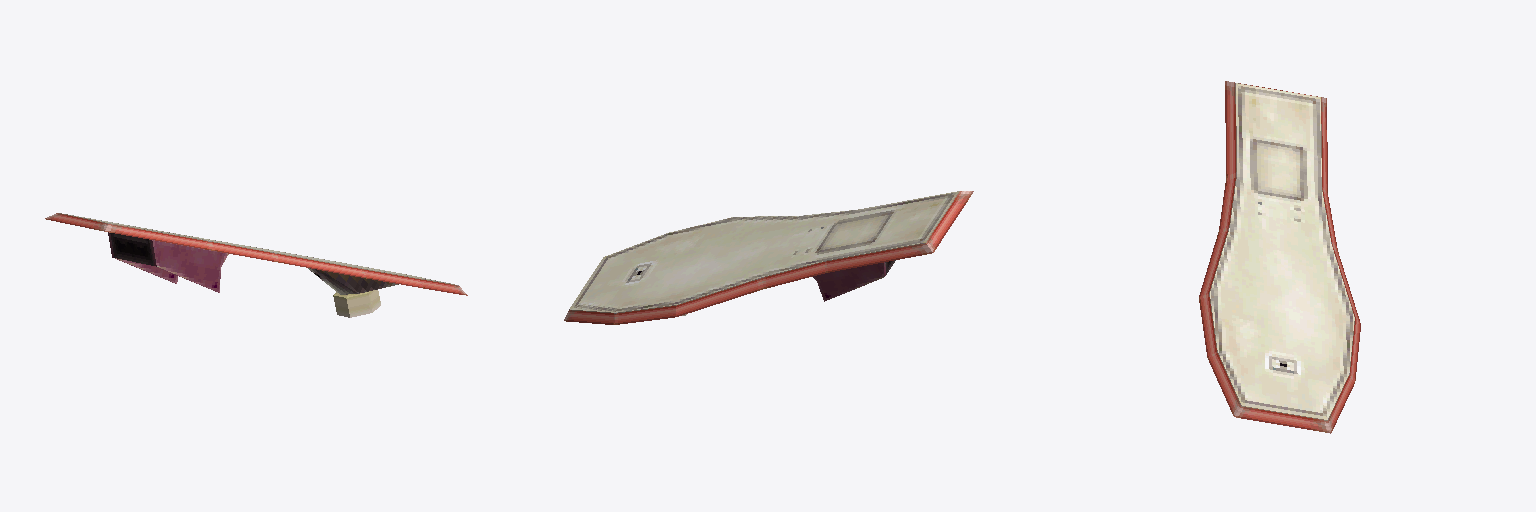
3 renders of one model, left to right at view 1: azimuth 30°, elevation 25°; view 2: azimuth 150°, elevation 25°; view 3: azimuth 270°, elevation 25°, orthographic.
Bounding box in the file's own units: 4.56 × 2.08 × 1.7.
Materials: 1 (1 with a texture image).